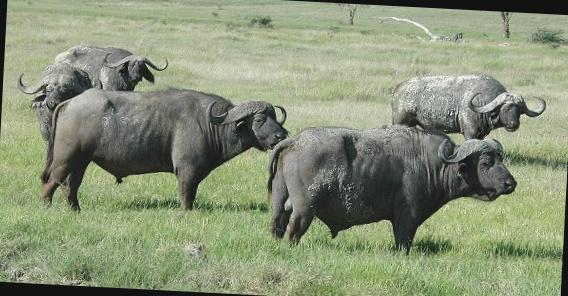Buffalo: (28, 23, 568, 267)
